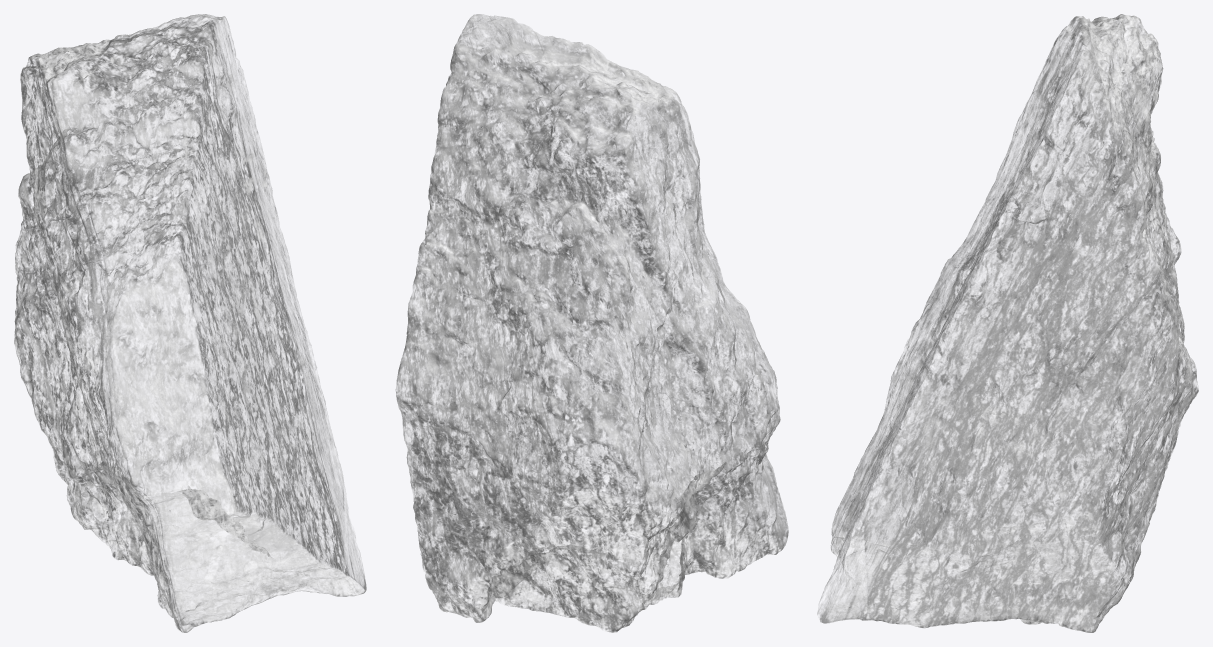
Rendered from white transparent.glb.
The picture shows the model from 3 angles, left to right: view 1: azimuth 30°, elevation 25°; view 2: azimuth 150°, elevation 25°; view 3: azimuth 270°, elevation 25°; orthographic projection. The views are drawn at different scales.
Parts seen in each view (by area): view 1: Metashape 100000 export; view 2: Metashape 100000 export; view 3: Metashape 100000 export.
Part boxes in pixels (x1=…): Metashape 100000 export: x1=14, y1=14, x2=366, y2=632; Metashape 100000 export: x1=395, y1=14, x2=788, y2=632; Metashape 100000 export: x1=817, y1=14, x2=1198, y2=632.
Bounding box in the file's own units: 0.4947 × 1.17 × 0.7348.
Materials: 1 (1 with a texture image).
